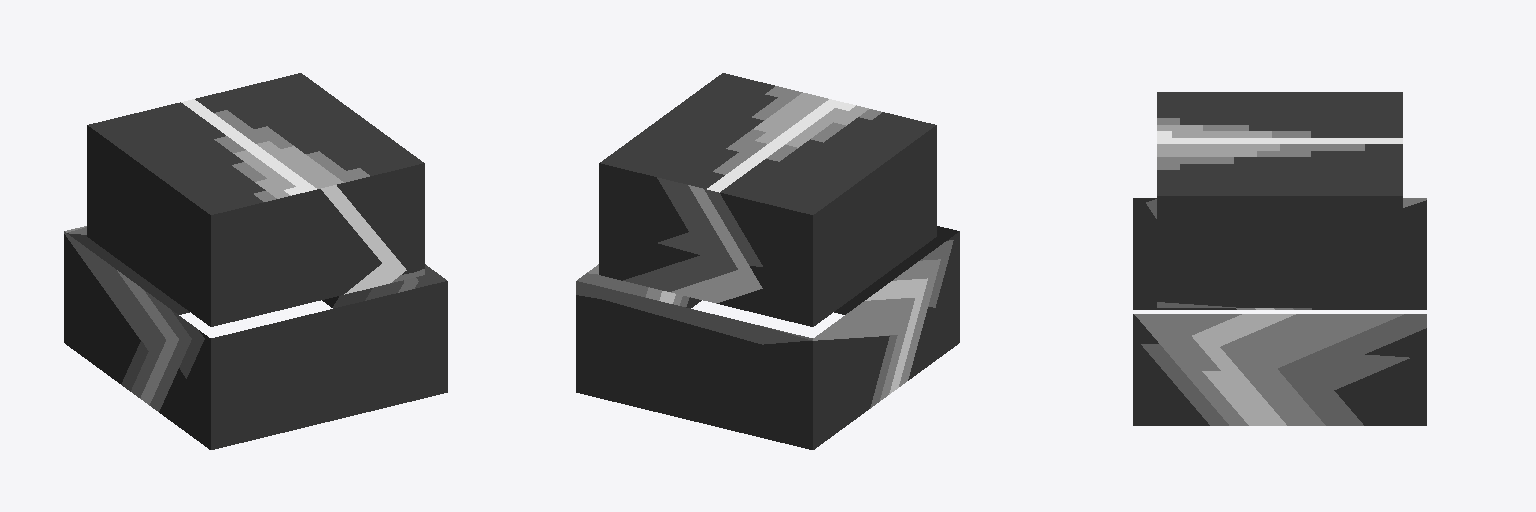
3 renders of one model, left to right at view 1: azimuth 30°, elevation 25°; view 2: azimuth 150°, elevation 25°; view 3: azimuth 270°, elevation 25°, orthographic.
Parts seen in each view (by area): view 1: Cone.001_Cone; view 2: Cone.001_Cone; view 3: Cone.001_Cone.
Boxes of the visible parts, <box> form: Cone.001_Cone: <box>64,73,447,449</box>; Cone.001_Cone: <box>576,73,959,449</box>; Cone.001_Cone: <box>1133,92,1426,425</box>.
Bounding box in the file's own units: 2.22 × 2 × 2.38.
1 materials, 1 textured.